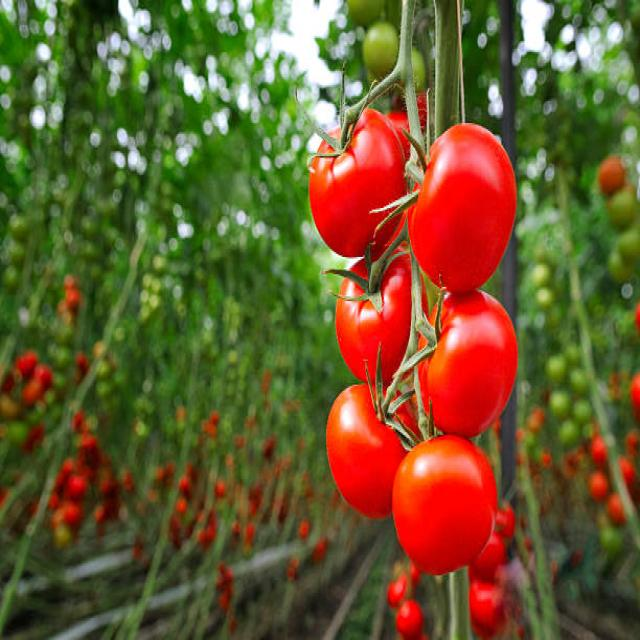Tomato: (404, 124, 521, 296), (416, 286, 521, 442), (390, 433, 499, 580), (305, 104, 406, 255), (331, 251, 435, 386), (324, 382, 417, 525)
